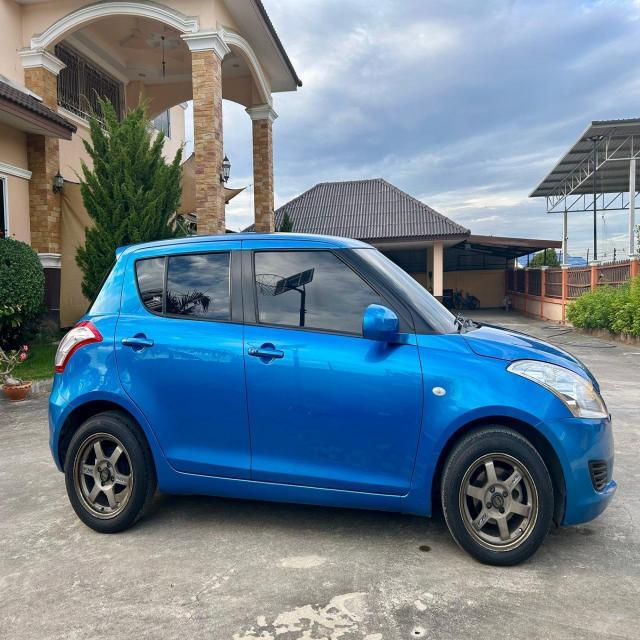Hatchback: (48, 233, 617, 565)
